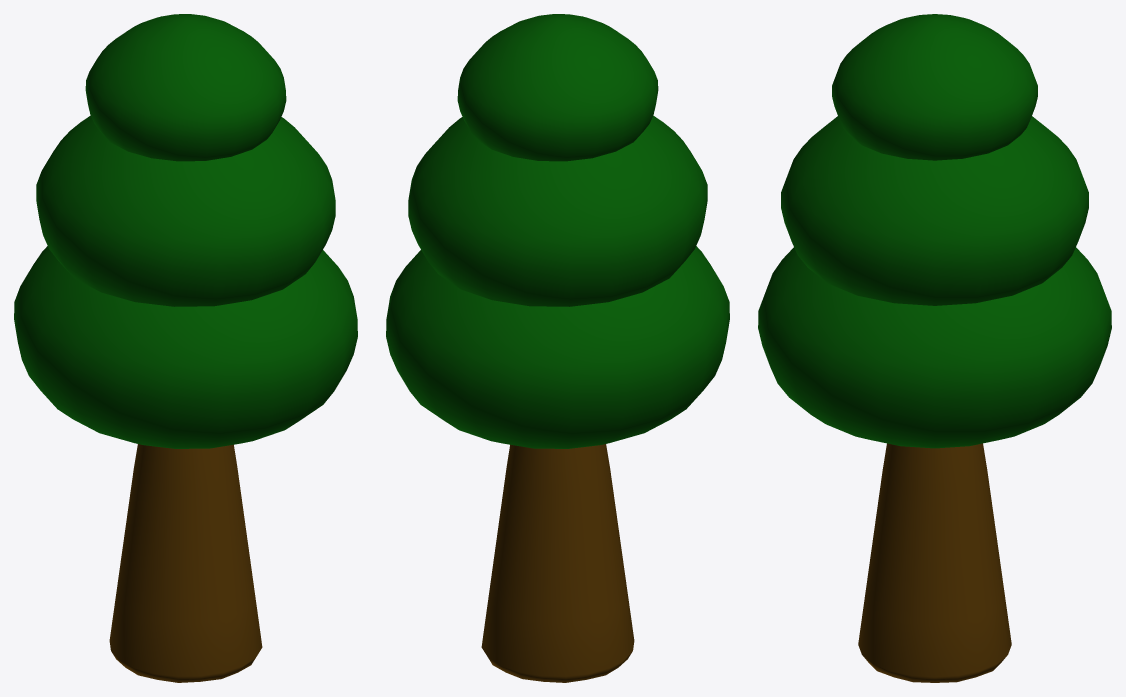
Rendered from tree_1.fbx.
3 renders of one model, left to right at view 1: azimuth 30°, elevation 25°; view 2: azimuth 150°, elevation 25°; view 3: azimuth 270°, elevation 25°, orthographic.
Visible parts, largest first — view 1: tree; view 2: tree; view 3: tree.
Part boxes in pixels (left/top/right/bottom): tree: left=14, top=14, right=357, bottom=682; tree: left=386, top=14, right=729, bottom=682; tree: left=758, top=14, right=1111, bottom=682.
Size of the model in its own units: 4.67 by 9.57 by 4.82.
